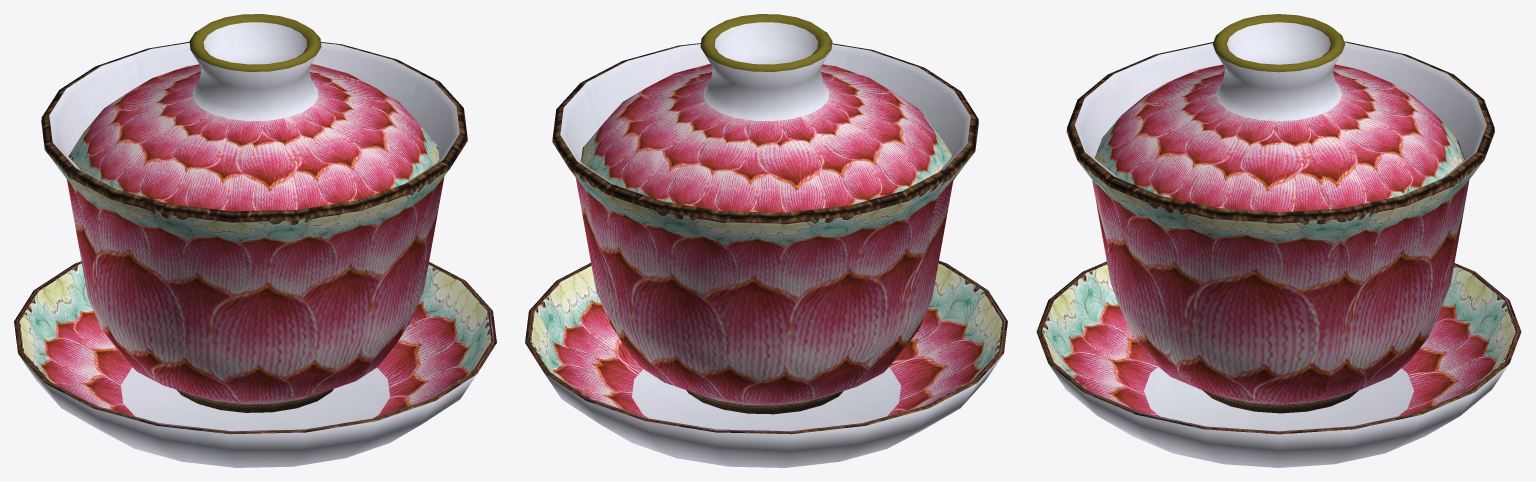
File: wan06.FBX
The picture shows the model from 3 angles, left to right: view 1: azimuth 30°, elevation 25°; view 2: azimuth 150°, elevation 25°; view 3: azimuth 270°, elevation 25°; orthographic projection.
Parts seen in each view (by area): view 1: pCylinder5, pCylinder6, pCylinder7; view 2: pCylinder5, pCylinder6, pCylinder7; view 3: pCylinder5, pCylinder6, pCylinder7.
Part boxes in pixels (x1,y1,x2,y2): pCylinder5: (41, 41, 467, 412); pCylinder6: (68, 14, 439, 211); pCylinder7: (14, 261, 496, 467); pCylinder5: (552, 43, 978, 414); pCylinder6: (581, 14, 951, 212); pCylinder7: (525, 261, 1007, 467); pCylinder5: (1066, 41, 1494, 413); pCylinder6: (1095, 14, 1464, 212); pCylinder7: (1036, 261, 1521, 467).
Bounding box in the file's own units: 119 × 101 × 119.
